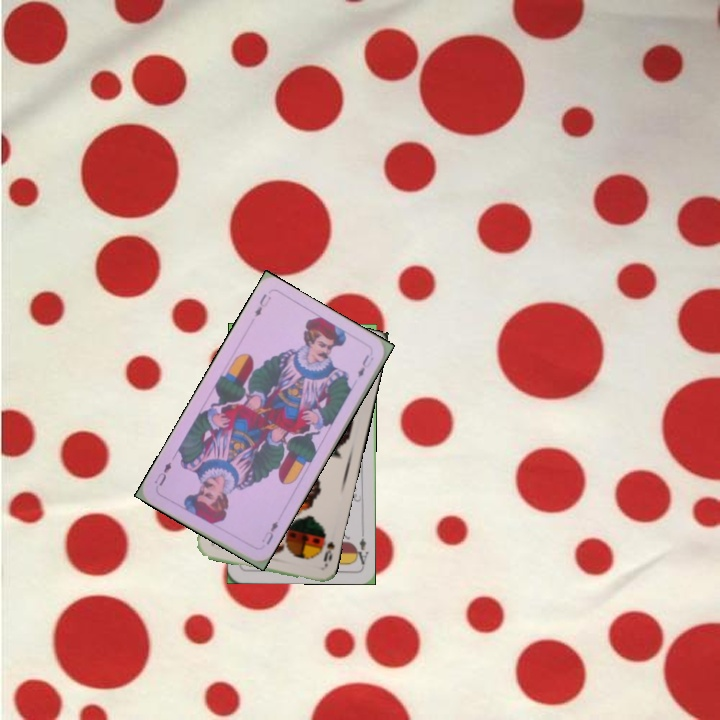EA: (351, 527, 371, 567)
EU: (257, 517, 281, 547), (250, 289, 274, 319)
SO: (315, 527, 337, 569)
